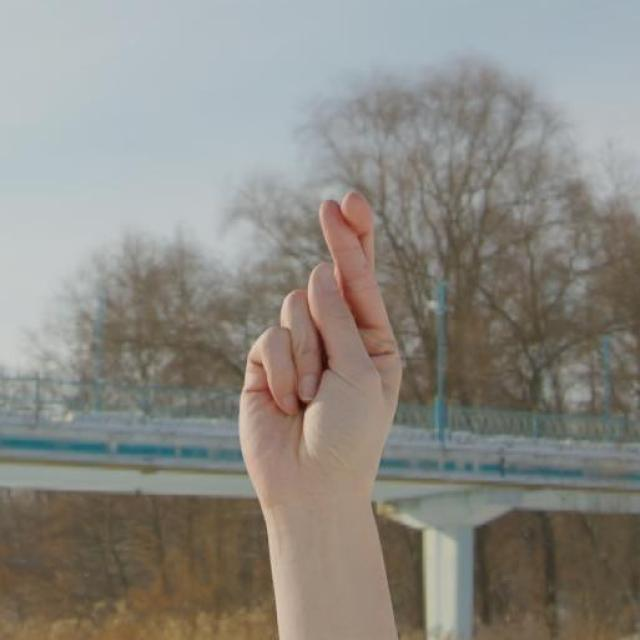R: (238, 187, 404, 516)
